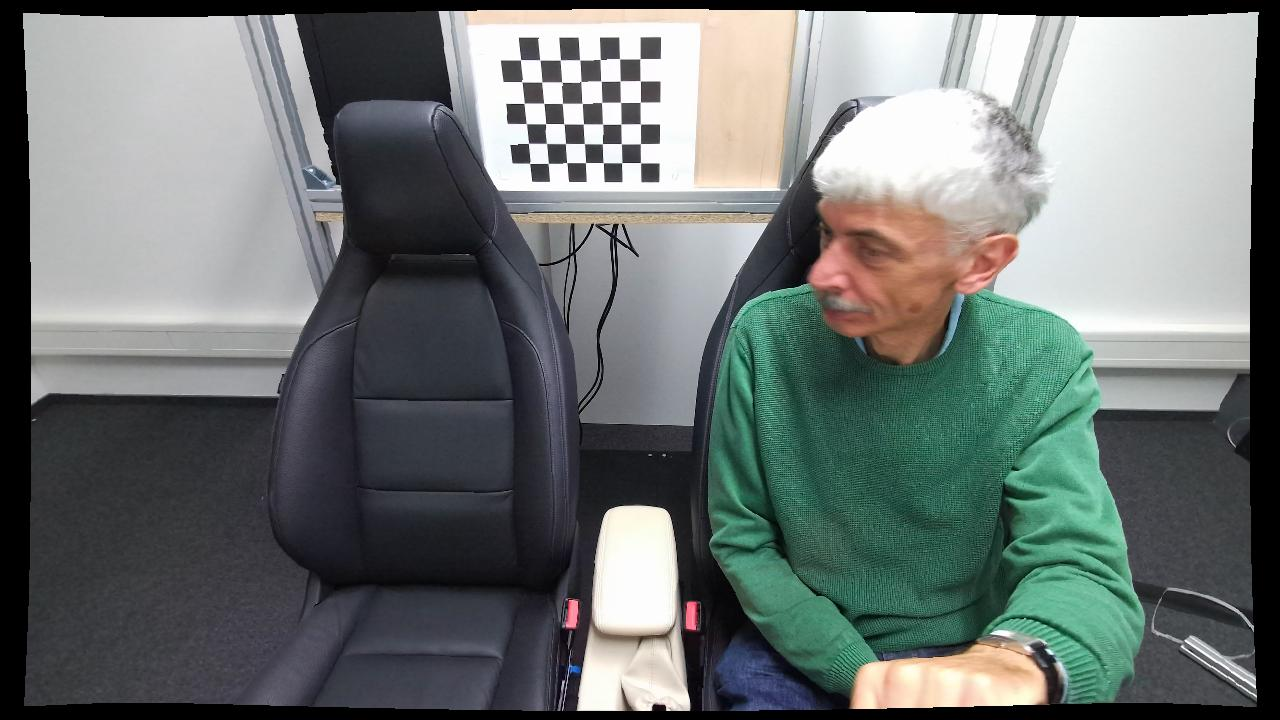Distracted: (707, 76, 1159, 714)
